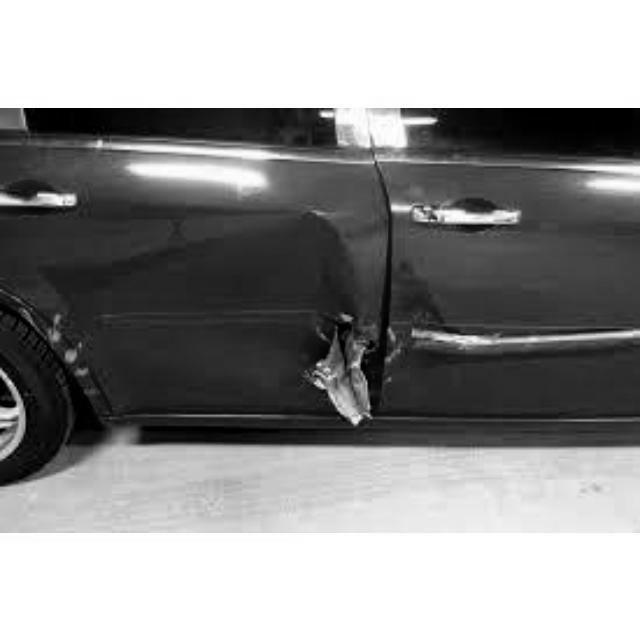doorouter-dent: (198, 161, 384, 412), (399, 164, 580, 417)
